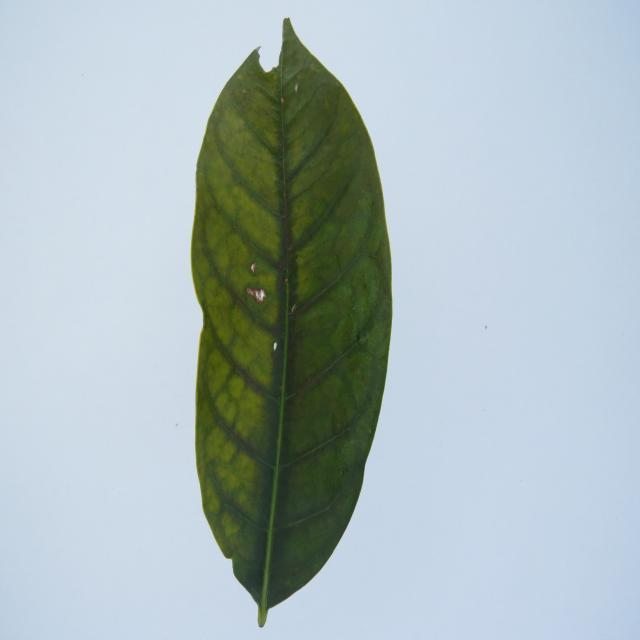DeficienciaNutricional-Magnesio: (191, 18, 392, 627)
